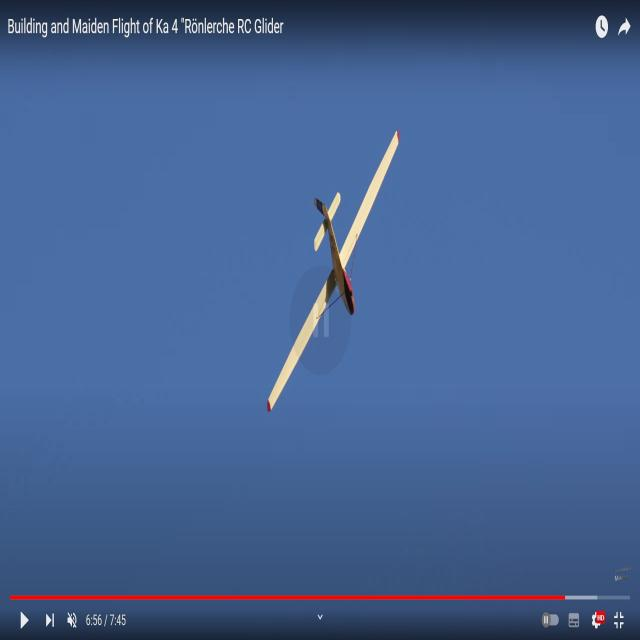iha: (266, 128, 399, 410)
